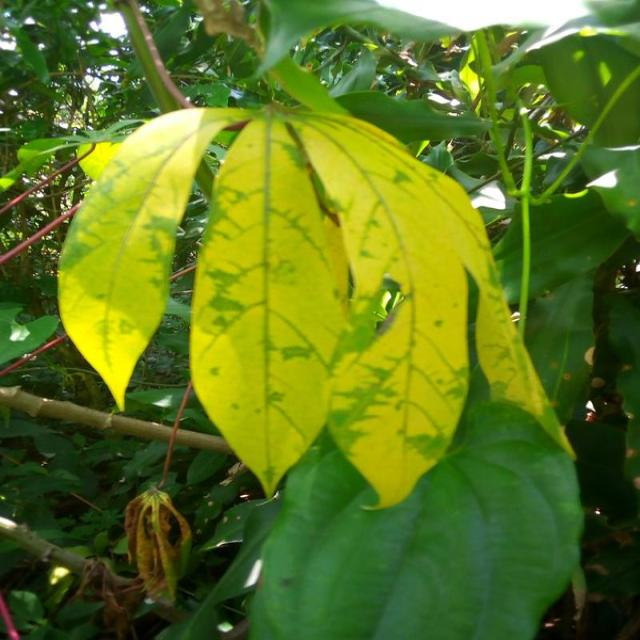cassava leaf: (188, 104, 487, 509), (55, 103, 256, 412)
